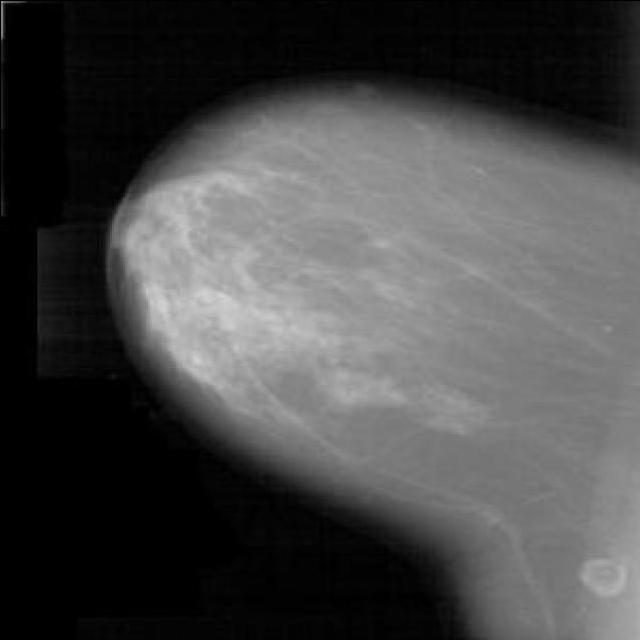tumor: (136, 168, 276, 386)
